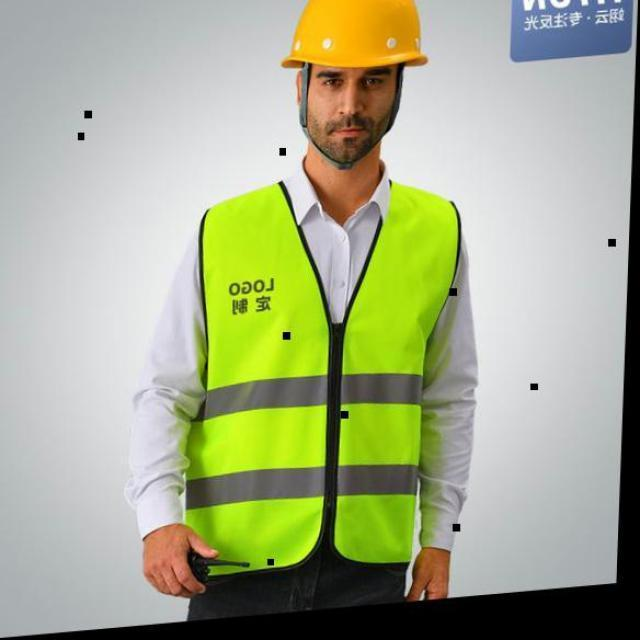safety_helmet: (183, 183, 477, 565)
